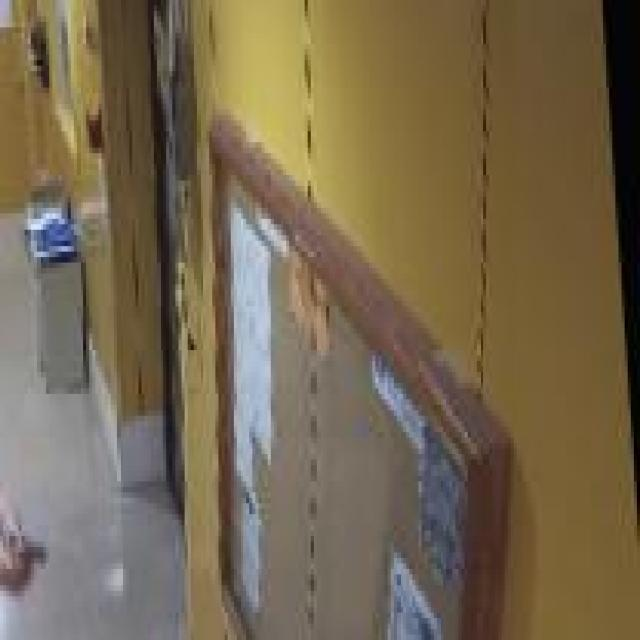Guns: (2, 519, 49, 579)
